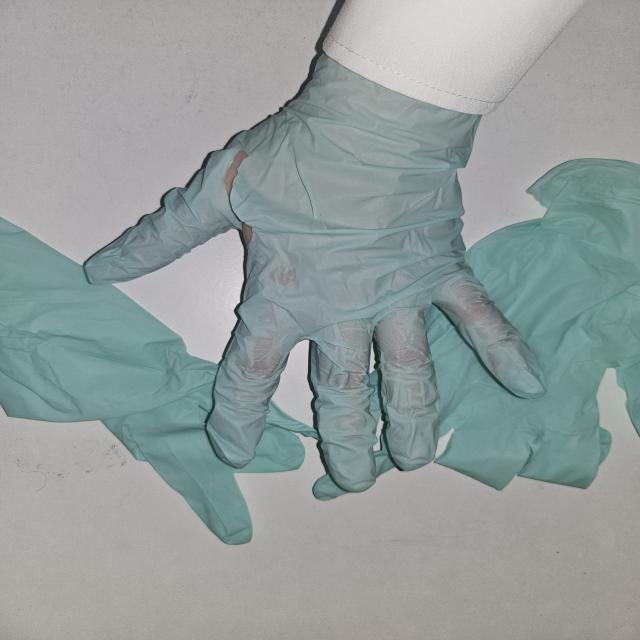gloves_damaged: (78, 47, 558, 493)
